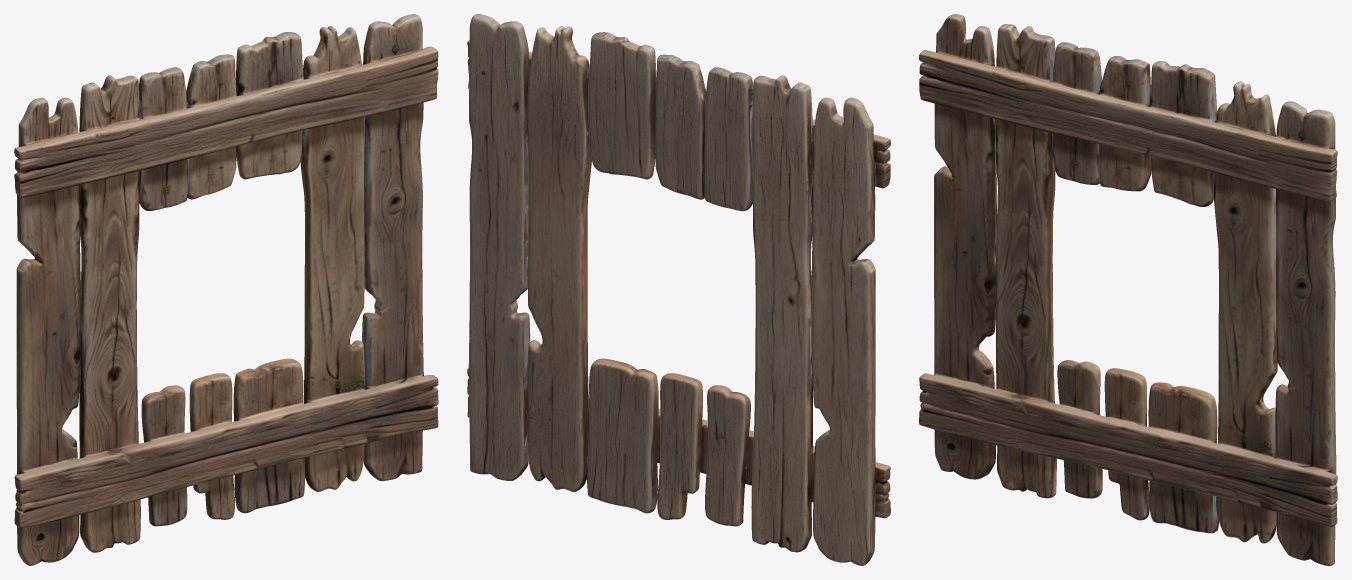
3 views of the same model, side by side, from view 1: azimuth 30°, elevation 25°; view 2: azimuth 150°, elevation 25°; view 3: azimuth 330°, elevation 25° (orthographic).
Parts seen in each view (by area): view 1: mvadapter_node_73ac6cee-f4c8-4a4f-9dc1-9728a0b92c44-e1_textu; view 2: mvadapter_node_73ac6cee-f4c8-4a4f-9dc1-9728a0b92c44-e1_textu; view 3: mvadapter_node_73ac6cee-f4c8-4a4f-9dc1-9728a0b92c44-e1_textu.
Boxes of the visible parts, x1,y1,x2,y2 form: mvadapter_node_73ac6cee-f4c8-4a4f-9dc1-9728a0b92c44-e1_textu: (14, 14, 438, 565); mvadapter_node_73ac6cee-f4c8-4a4f-9dc1-9728a0b92c44-e1_textu: (467, 14, 890, 565); mvadapter_node_73ac6cee-f4c8-4a4f-9dc1-9728a0b92c44-e1_textu: (919, 14, 1337, 565).
Bounding box in the file's own units: 1.74 × 1.87 × 0.1005.
Materials: 1 (1 with a texture image).
